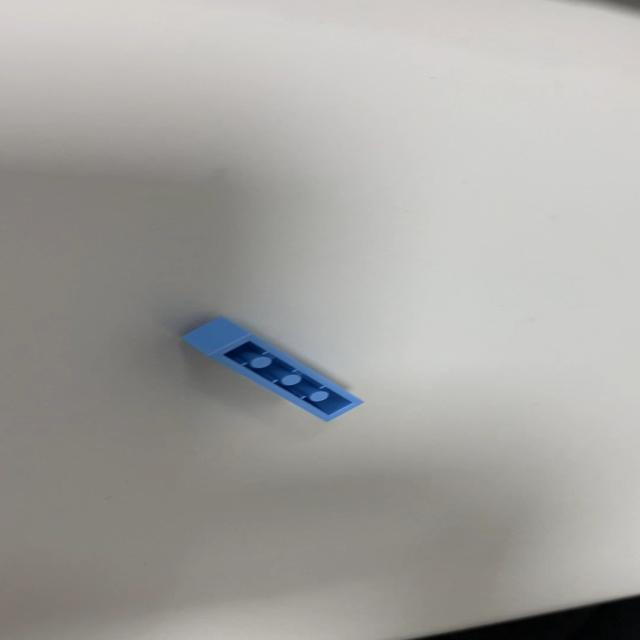C4x1x1: (180, 316, 364, 422)
